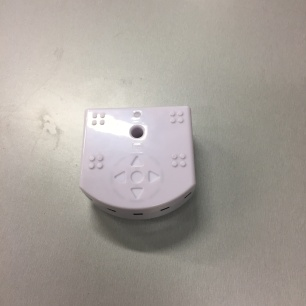thymio: (79, 103, 199, 220)
